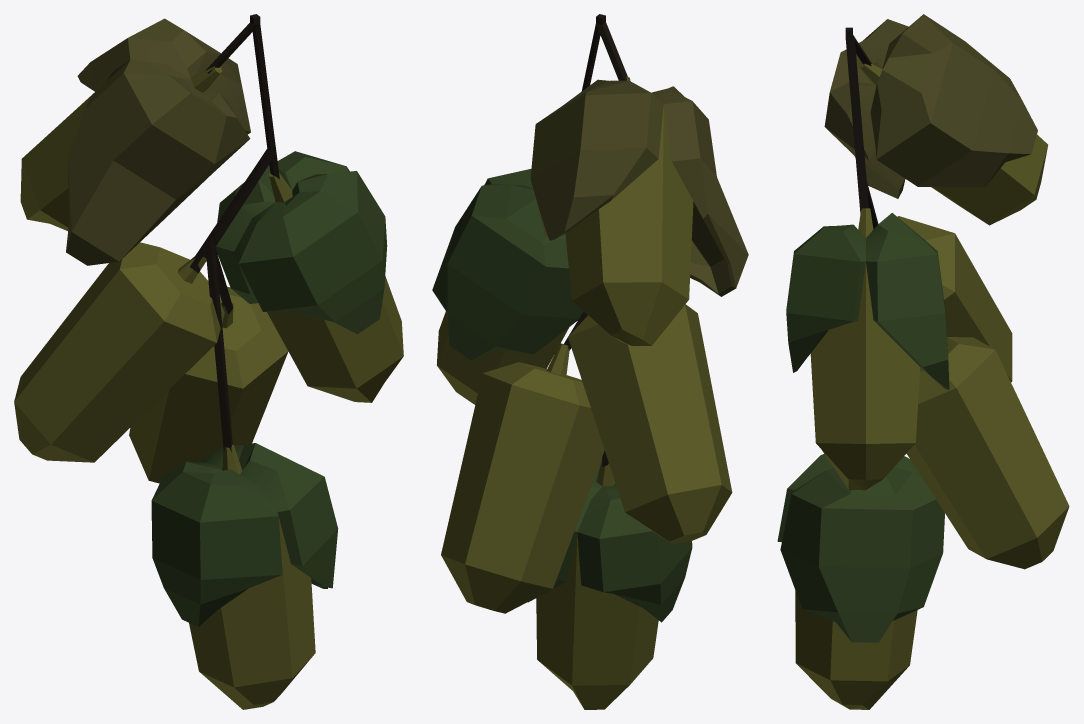
Rendered from 玉米捆_pCylinder24.FBX.
3 views of the same model, side by side, from view 1: azimuth 30°, elevation 25°; view 2: azimuth 150°, elevation 25°; view 3: azimuth 270°, elevation 25° (orthographic). The views are drawn at different scales.
Parts seen in each view (by area): view 1: 玉米捆_pCylinder24; view 2: 玉米捆_pCylinder24; view 3: 玉米捆_pCylinder24.
Boxes of the visible parts, x1,y1,x2,y2 form: 玉米捆_pCylinder24: (14, 14, 403, 709); 玉米捆_pCylinder24: (432, 14, 748, 709); 玉米捆_pCylinder24: (777, 14, 1069, 709).
Size of the model in its own units: 30.55 by 23.52 by 60.28.
